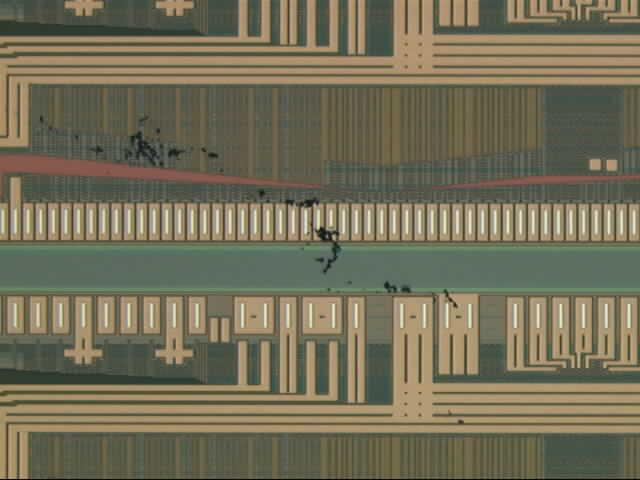PO CONTAMINATION: (32, 111, 472, 432)
